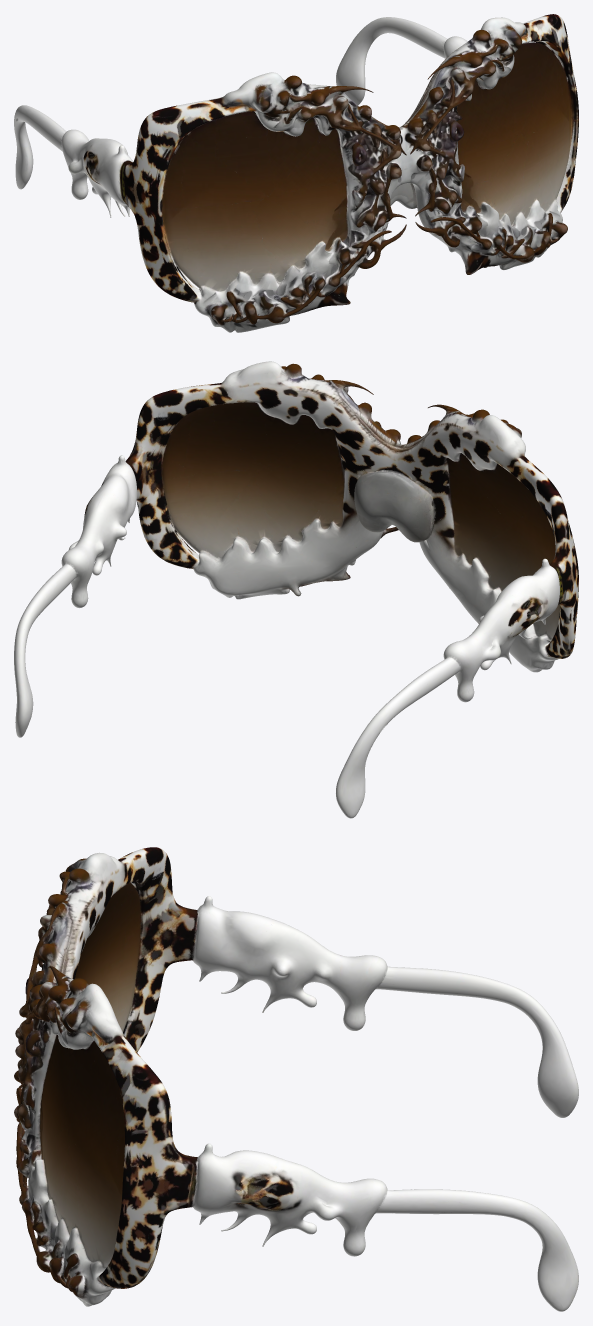
File: noir.glb
3 views of the same model, one above another, from view 1: azimuth 30°, elevation 25°; view 2: azimuth 150°, elevation 25°; view 3: azimuth 270°, elevation 25° (orthographic). The views are drawn at different scales.
Parts seen in each view (by area): view 1: Mesh_0; view 2: Mesh_0; view 3: Mesh_0.
Part boxes in pixels (box(x1,y1,x2,y2)): Mesh_0: box(14, 14, 578, 332); Mesh_0: box(14, 361, 578, 818); Mesh_0: box(14, 847, 578, 1311).
Bounding box in the file's own units: 0.0946 × 0.05 × 0.086.
Materials: 1 (1 with a texture image).
